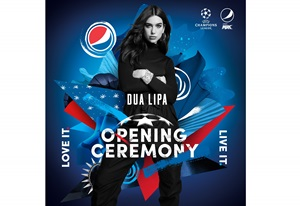pepsi: (87, 23, 110, 48)
